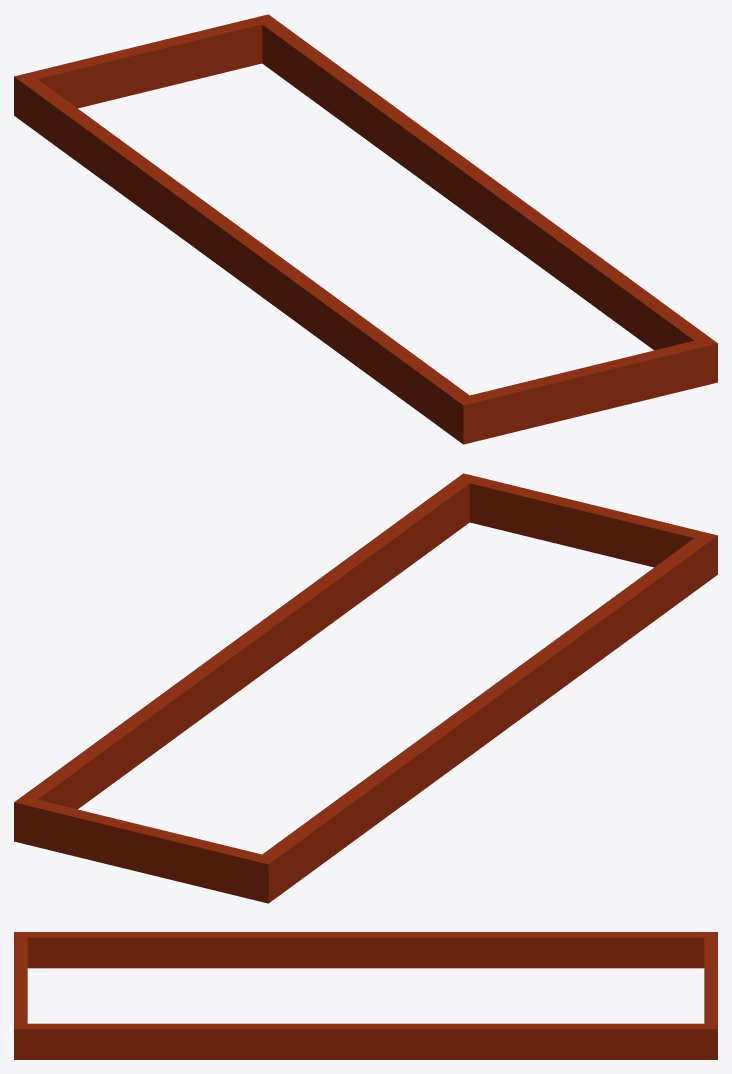
File: turtlebot3_corridor.dae
3 renders of one model, top to bottom at view 1: azimuth 30°, elevation 25°; view 2: azimuth 150°, elevation 25°; view 3: azimuth 270°, elevation 25°, orthographic. The views are drawn at different scales.
Visible parts, largest first — view 1: ID2; view 2: ID2; view 3: ID2.
Part boxes in pixels (left/top/right/bottom): ID2: left=14, top=14, right=717, bottom=444; ID2: left=14, top=473, right=717, bottom=903; ID2: left=14, top=932, right=717, bottom=1059.
Bounding box in the file's own units: 3.4 × 10.4 × 0.5.
